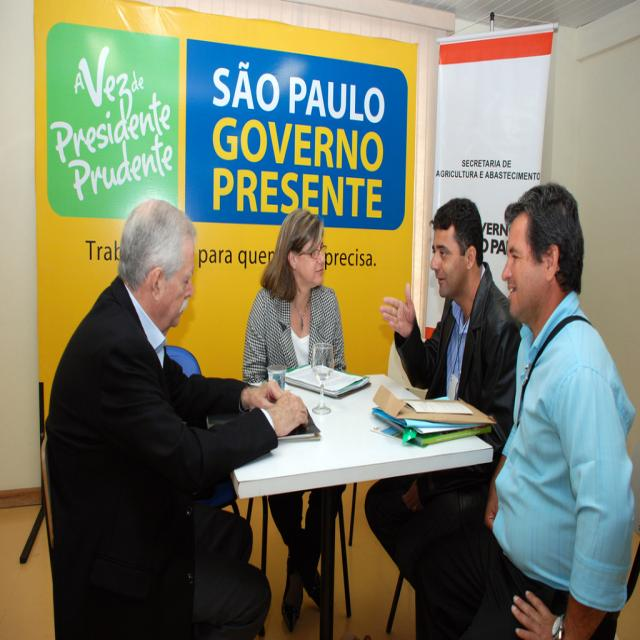chair: (20, 381, 54, 564)
desk: (234, 378, 492, 631)
person: (379, 180, 637, 637), (45, 198, 314, 631), (242, 208, 347, 384)
